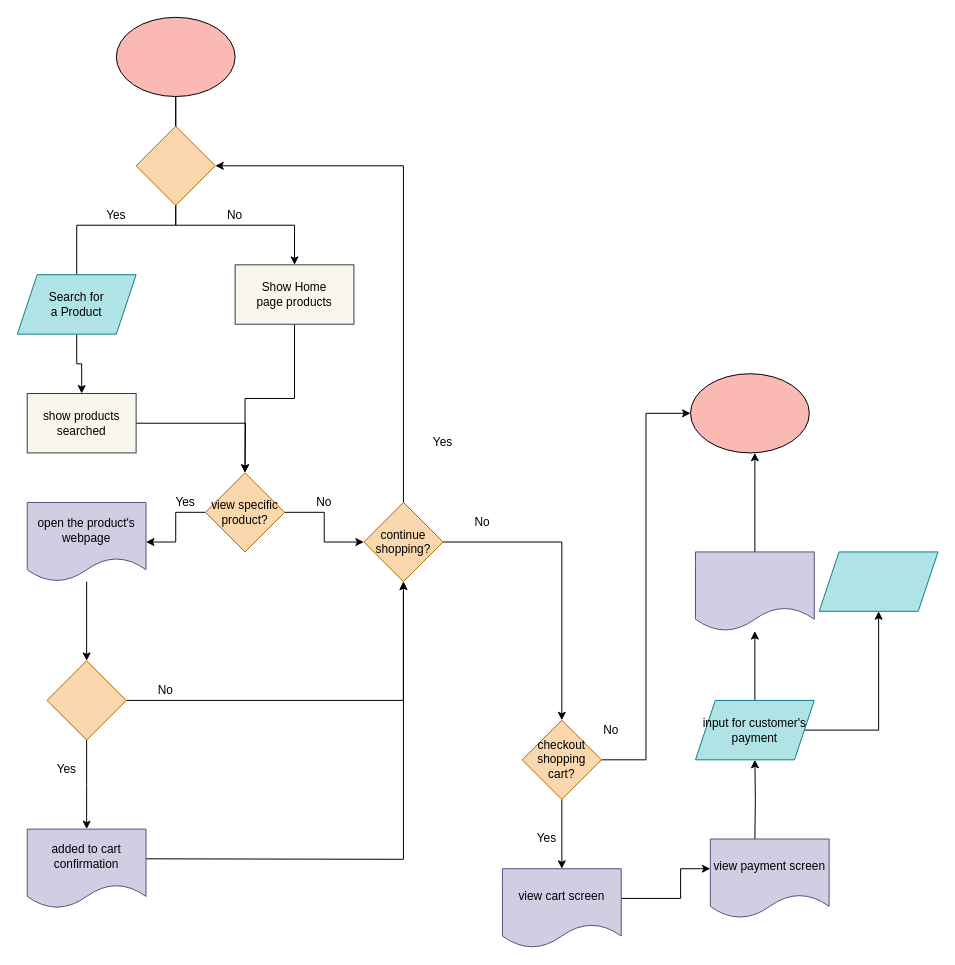
The diagram is 955 pixels wide and 965 high, and some of its shapes have lost their labels. The box of each missing label's shape, as (x1, y1, x2, y2) in pixels:
add item into the cart?: (46, 660, 126, 740)
customer leaves: (690, 373, 809, 453)
printout order confirmation: (694, 551, 814, 631)
receive email confirmation: (818, 551, 938, 611)
search specific item?: (135, 125, 215, 205)
Start (Enter the website): (115, 16, 235, 97)
